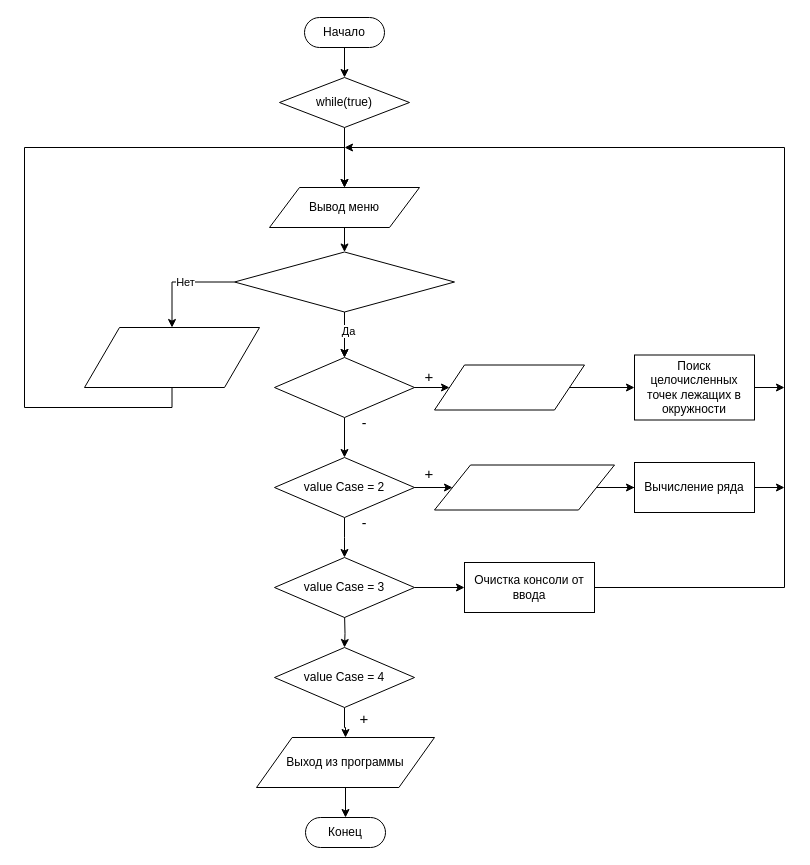
This 810x865 diagram has some shape labels left out. The box of each missing label's shape, as (x1, y1, x2, y2) in pixels:
value Case = 1: (274, 356, 414, 418)
Ввод корректен: (234, 251, 454, 312)
Ввод максимального числа итераций: (434, 464, 614, 510)
Ввод радиуса R: (434, 364, 584, 410)
Вывод информации о неверном вводе: (84, 326, 260, 388)
